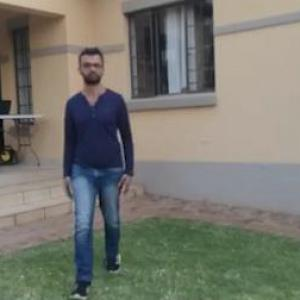follow: (61, 38, 138, 299)
